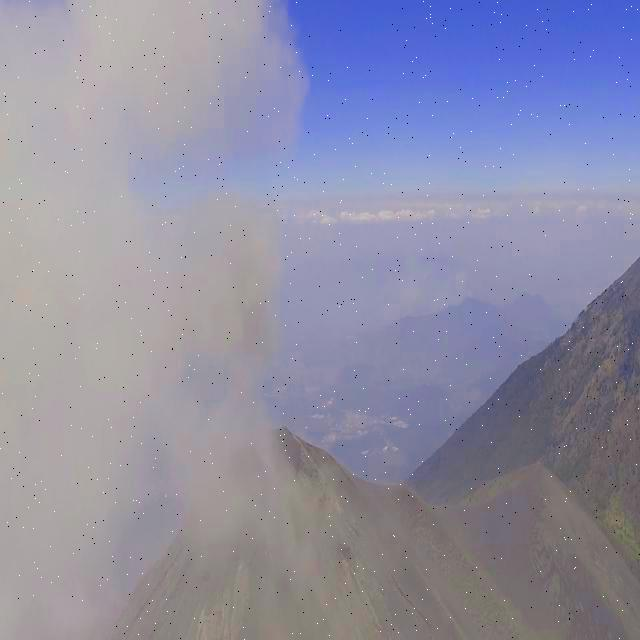Plume: (0, 0, 310, 640)
Summit: (113, 407, 433, 640)
